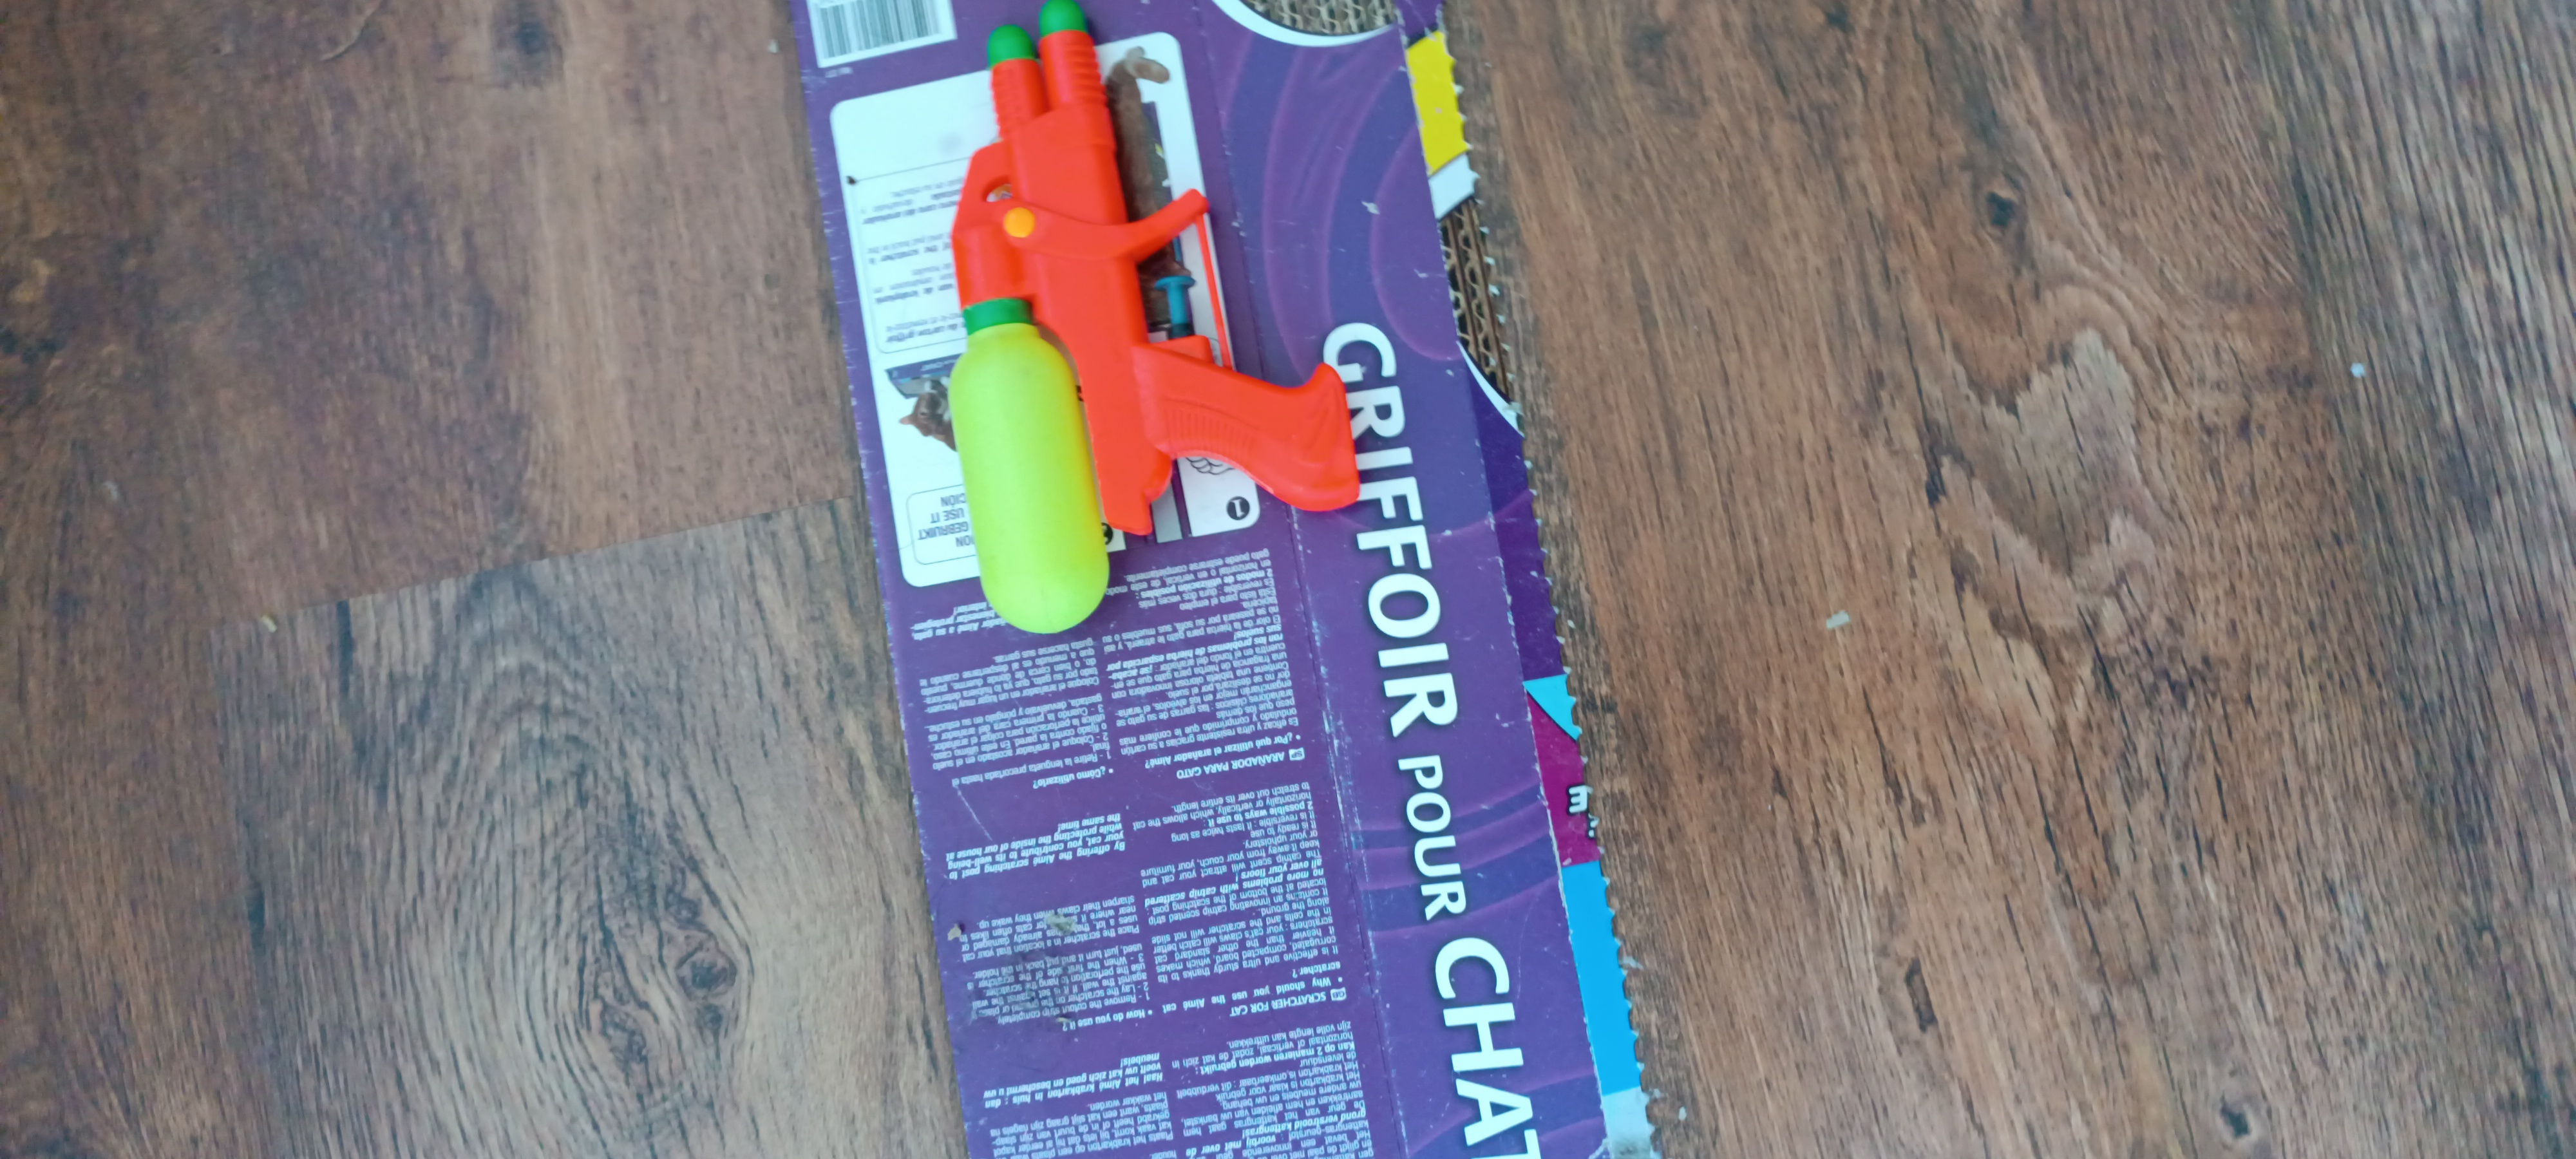Water Gun: (945, 0, 1360, 634)
